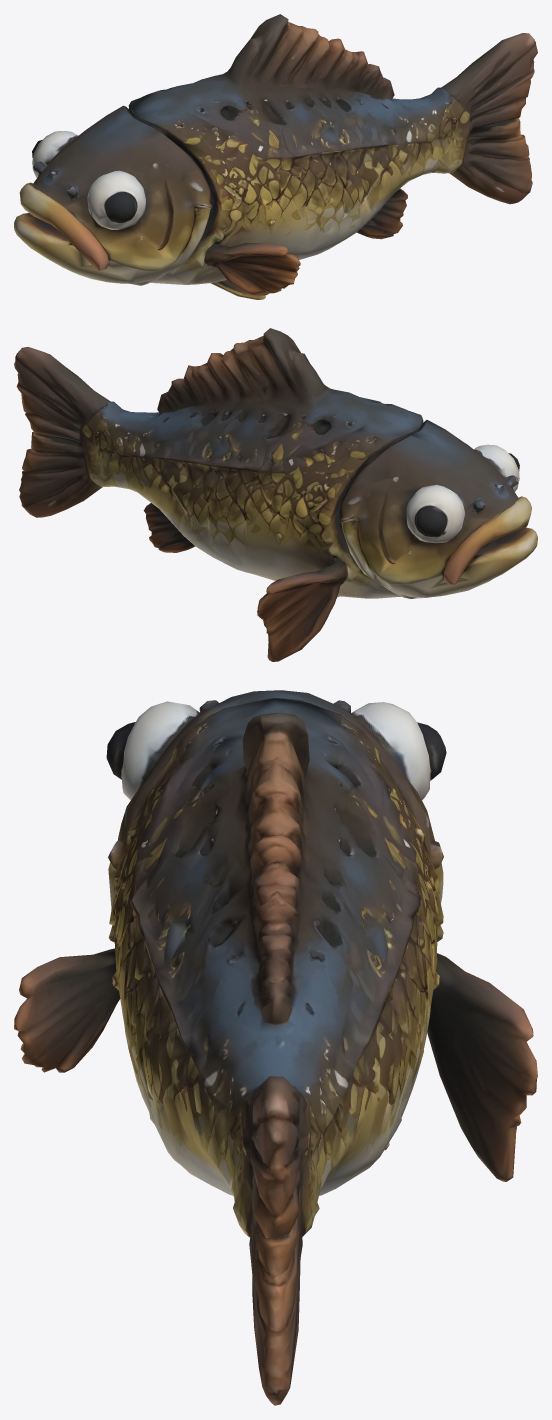
File: fish-bychok.glb
3 renders of one model, top to bottom at view 1: azimuth 30°, elevation 25°; view 2: azimuth 150°, elevation 25°; view 3: azimuth 270°, elevation 25°, orthographic. The views are drawn at different scales.
Visible parts, largest first — view 1: tripo_node_c7fa9887-a371-487b-ba49-542991a4a242; view 2: tripo_node_c7fa9887-a371-487b-ba49-542991a4a242; view 3: tripo_node_c7fa9887-a371-487b-ba49-542991a4a242.
Boxes of the visible parts, x1,y1,x2,y2 form: tripo_node_c7fa9887-a371-487b-ba49-542991a4a242: (14, 14, 537, 299); tripo_node_c7fa9887-a371-487b-ba49-542991a4a242: (14, 328, 537, 661); tripo_node_c7fa9887-a371-487b-ba49-542991a4a242: (14, 690, 537, 1405).
Bounding box in the file's own units: 1 × 0.5052 × 0.4565.
1 material, 1 textured.
